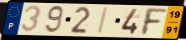2: (69, 6, 92, 35)
3: (21, 5, 44, 34)
4: (120, 8, 139, 35)
9: (43, 5, 65, 35)
F: (141, 7, 168, 37)
I: (97, 7, 110, 35)
